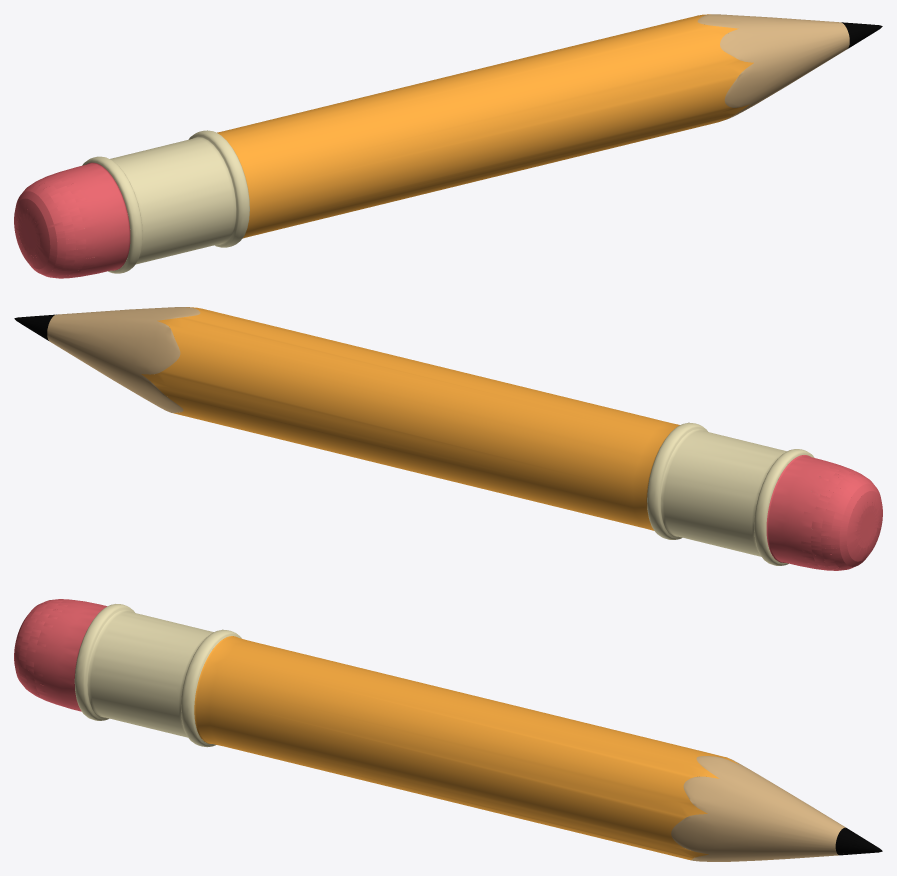
File: pencilMustache.gltf
The picture shows the model from 3 angles, top to bottom: view 1: azimuth 30°, elevation 25°; view 2: azimuth 150°, elevation 25°; view 3: azimuth 330°, elevation 25°; orthographic projection.
Visible parts, largest first — view 1: pencilMustache; view 2: pencilMustache; view 3: pencilMustache.
Part boxes in pixels (x1,y1,x2,y2): pencilMustache: (14,14,882,278); pencilMustache: (14,307,882,570); pencilMustache: (14,599,882,861).
Bounding box in the file's own units: 2.01 × 0.2429 × 0.2427.
